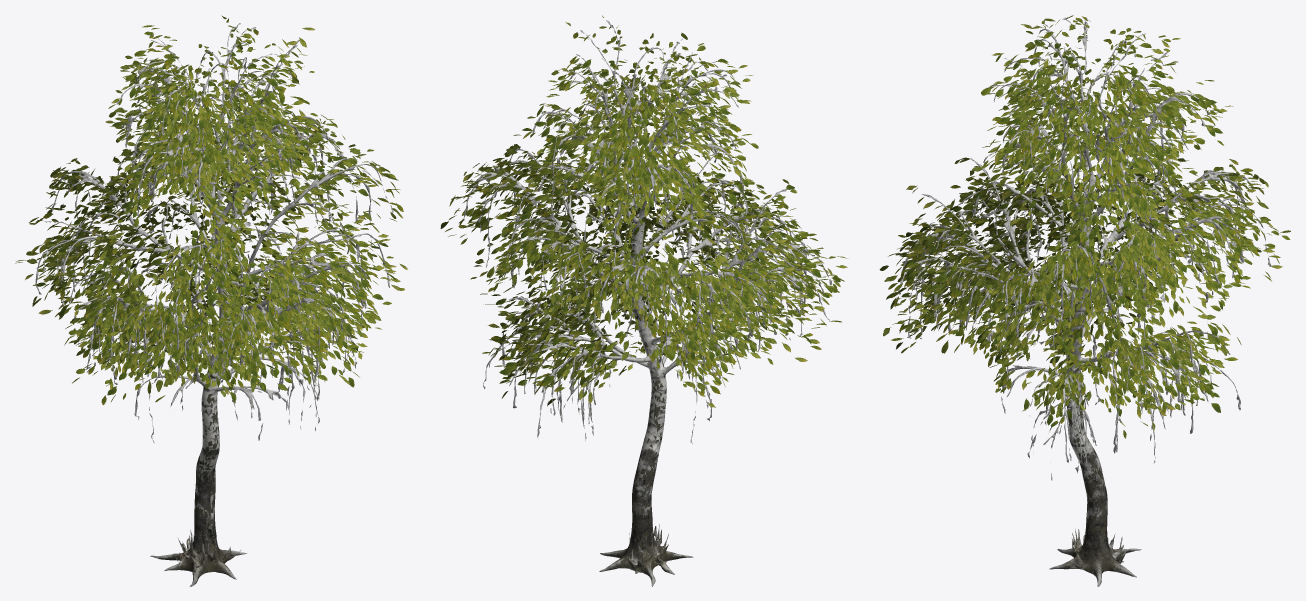
Rendered from tree_birch.glb.
The picture shows the model from 3 angles, left to right: view 1: azimuth 30°, elevation 25°; view 2: azimuth 150°, elevation 25°; view 3: azimuth 270°, elevation 25°; orthographic projection. The views are drawn at different scales.
Visible parts, largest first — view 1: tree_birch; view 2: tree_birch; view 3: tree_birch.
Part boxes in pixels (x1=…): tree_birch: x1=15, y1=15, x2=407, y2=586; tree_birch: x1=440, y1=15, x2=847, y2=586; tree_birch: x1=879, y1=15, x2=1290, y2=586.
Size of the model in its own units: 5.84 by 8.6 by 6.03.
Materials: 2 (2 with a texture image).
